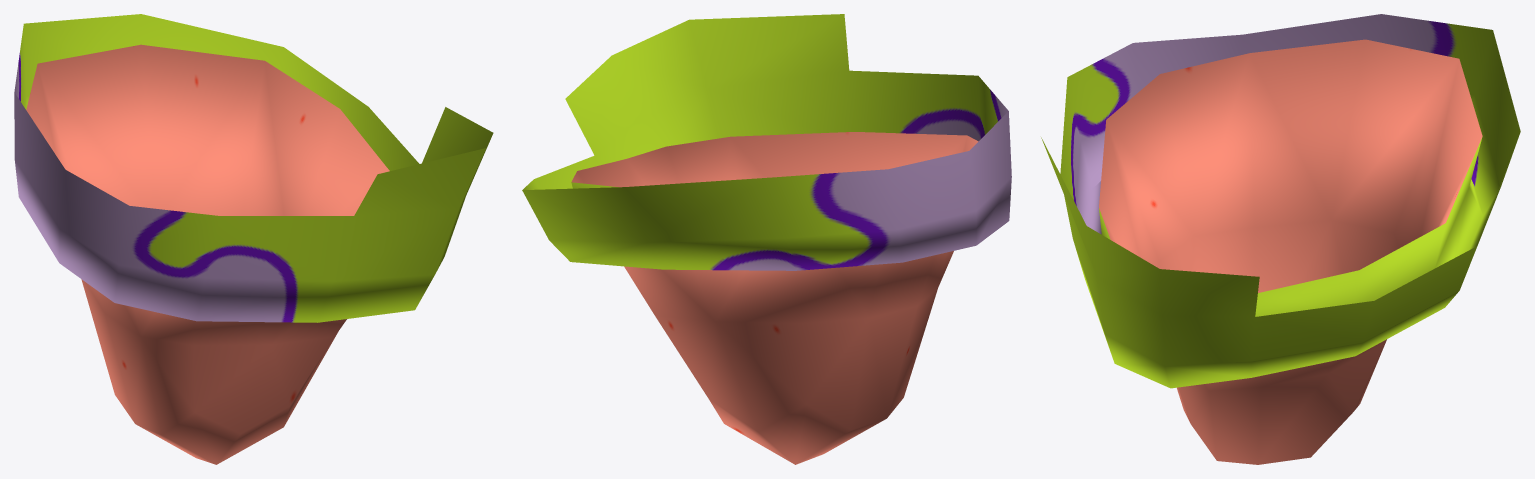
File: patrickleftleg.obj
3 renders of one model, left to right at view 1: azimuth 30°, elevation 25°; view 2: azimuth 150°, elevation 25°; view 3: azimuth 270°, elevation 25°, orthographic. The views are drawn at different scales.
Visible parts, largest first — view 1: Patrick.001_Patrick.003; view 2: Patrick.001_Patrick.003; view 3: Patrick.001_Patrick.003.
Boxes of the visible parts, x1,y1,x2,y2 form: Patrick.001_Patrick.003: [14, 14, 493, 464]; Patrick.001_Patrick.003: [522, 14, 1011, 464]; Patrick.001_Patrick.003: [1041, 14, 1520, 464].
Size of the model in its own units: 1.07 by 0.9474 by 1.05.
2 materials, 2 textured.
